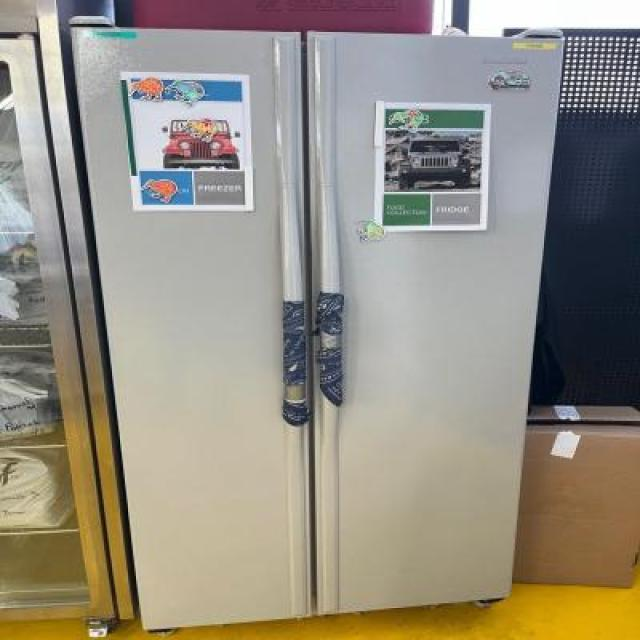refrigerator: (69, 25, 568, 634)
